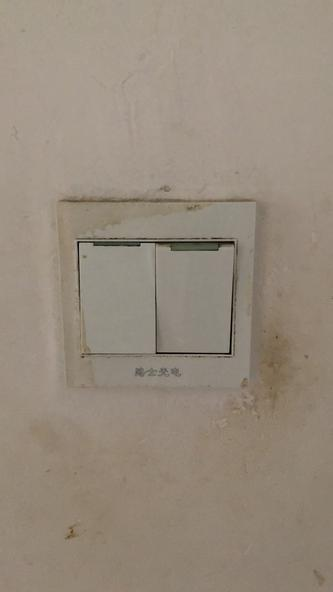switch: (75, 234, 158, 358), (155, 235, 237, 360)
